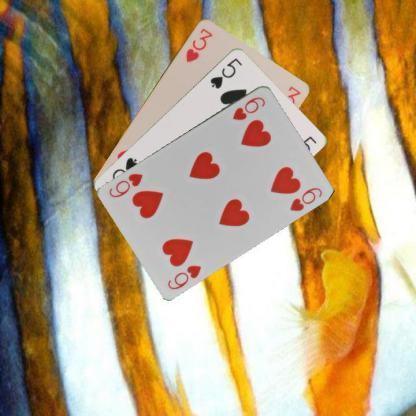3h: (183, 26, 214, 63)
5s: (208, 55, 244, 90)
6h: (164, 262, 202, 292), (230, 94, 267, 122)
